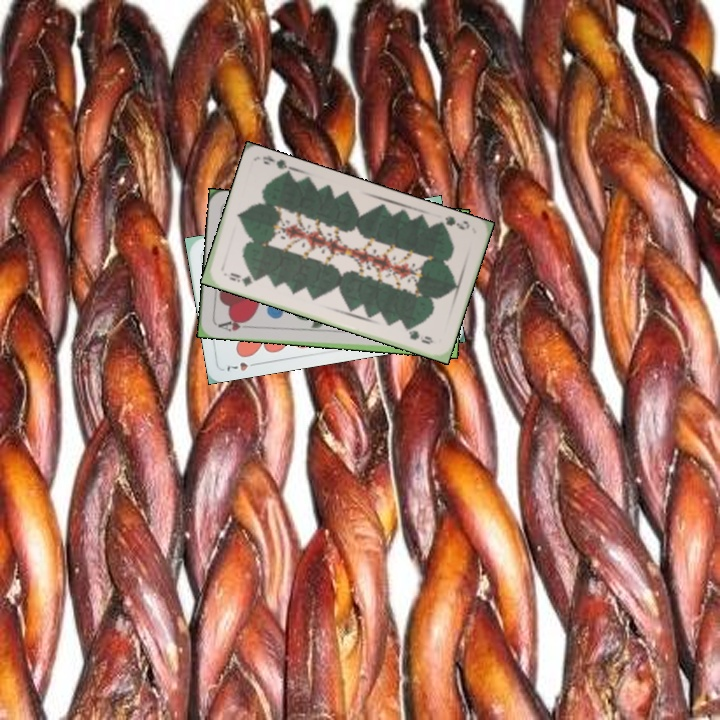G9: (434, 212, 472, 232), (225, 269, 260, 289)
H7: (223, 358, 261, 374)
HA: (214, 315, 254, 334)
